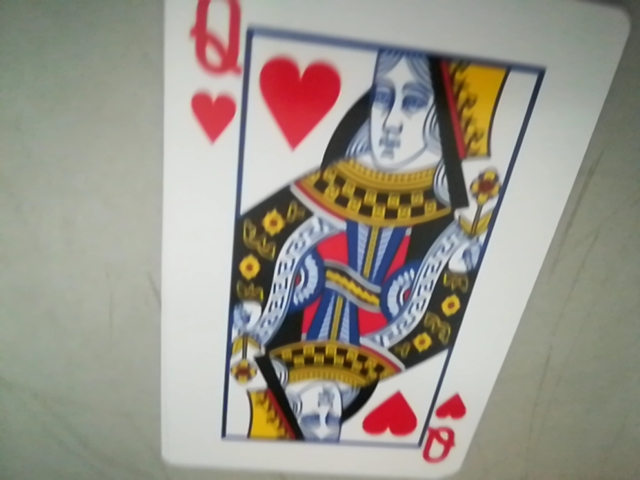hx q: (191, 1, 244, 145), (421, 389, 464, 464)
